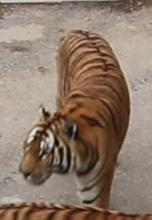tiger: (19, 30, 129, 206)
